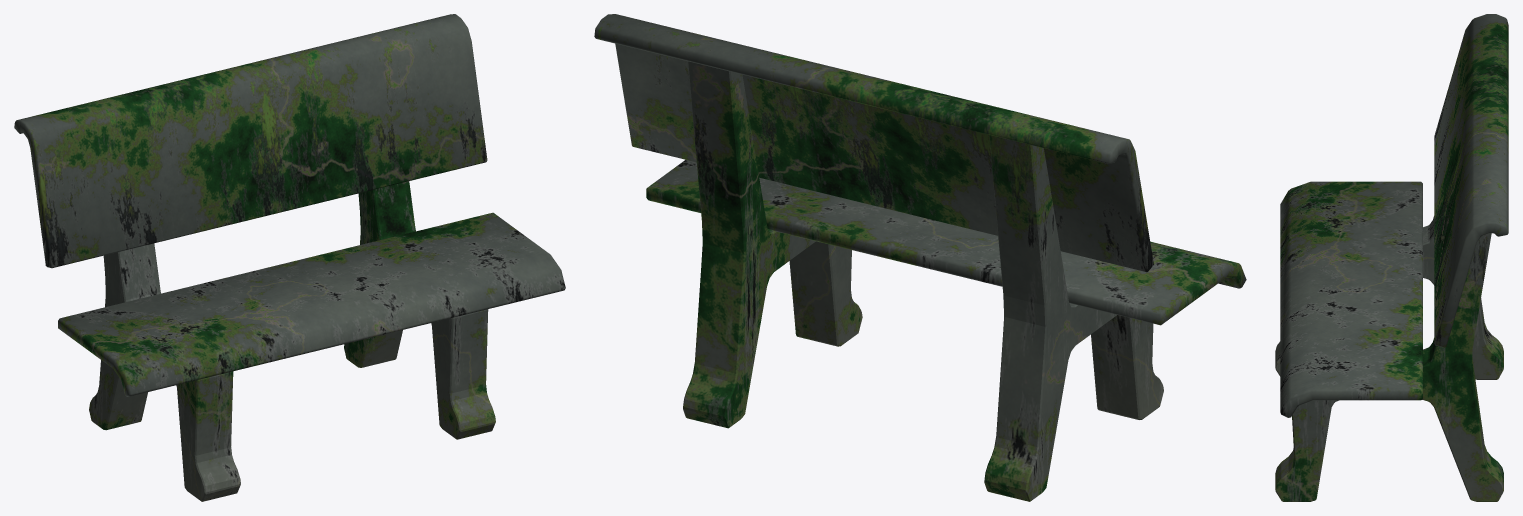
Rendered from moss_covered_concrete_bench.glb.
The picture shows the model from 3 angles, left to right: view 1: azimuth 30°, elevation 25°; view 2: azimuth 150°, elevation 25°; view 3: azimuth 270°, elevation 25°; orthographic projection. The views are drawn at different scales.
Parts seen in each view (by area): view 1: 0011a_Model_Baked_Generic Concrete Bench_0; view 2: 0011a_Model_Baked_Generic Concrete Bench_0; view 3: 0011a_Model_Baked_Generic Concrete Bench_0.
Boxes of the visible parts, x1=… form: 0011a_Model_Baked_Generic Concrete Bench_0: x1=14, y1=14, x2=565, y2=501; 0011a_Model_Baked_Generic Concrete Bench_0: x1=594, y1=14, x2=1246, y2=501; 0011a_Model_Baked_Generic Concrete Bench_0: x1=1275, y1=14, x2=1508, y2=501.
Bounding box in the file's own units: 1.2 × 0.8408 × 0.5649.
Materials: 1 (1 with a texture image).
